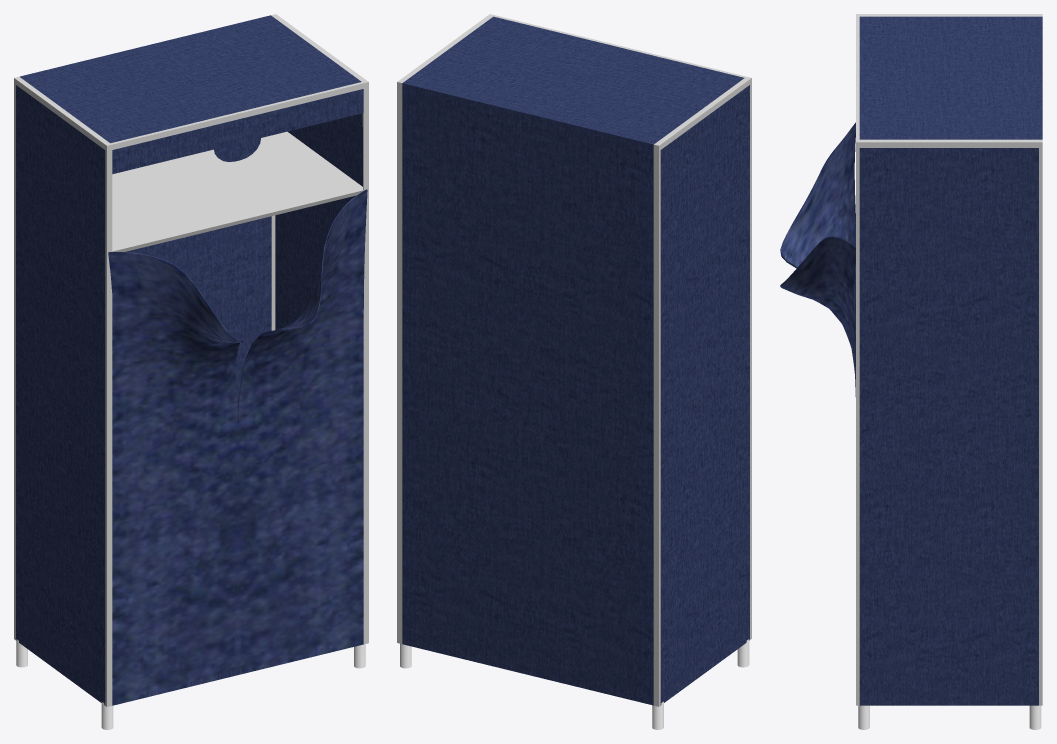
The model's file is Lemari.fbx.
The picture shows the model from 3 angles, left to right: view 1: azimuth 30°, elevation 25°; view 2: azimuth 150°, elevation 25°; view 3: azimuth 270°, elevation 25°; orthographic projection.
Parts seen in each view (by area): view 1: Cube, Cube.003, Cylinder.001; view 2: Cube, Cylinder.001; view 3: Cube, Cube.003, Cylinder.001.
Part boxes in pixels (box(x1,y1,x2,y2)): Cube: box(14, 14, 368, 706); Cube.003: box(108, 189, 367, 705); Cylinder.001: box(16, 639, 365, 729); Cube: box(397, 14, 751, 706); Cylinder.001: box(400, 639, 749, 729); Cube: box(856, 14, 1042, 705); Cube.003: box(780, 122, 855, 396); Cylinder.001: box(858, 705, 1041, 729).
Size of the model in its own units: 70.16 by 150 by 60.47.
2 materials, 1 textured.
